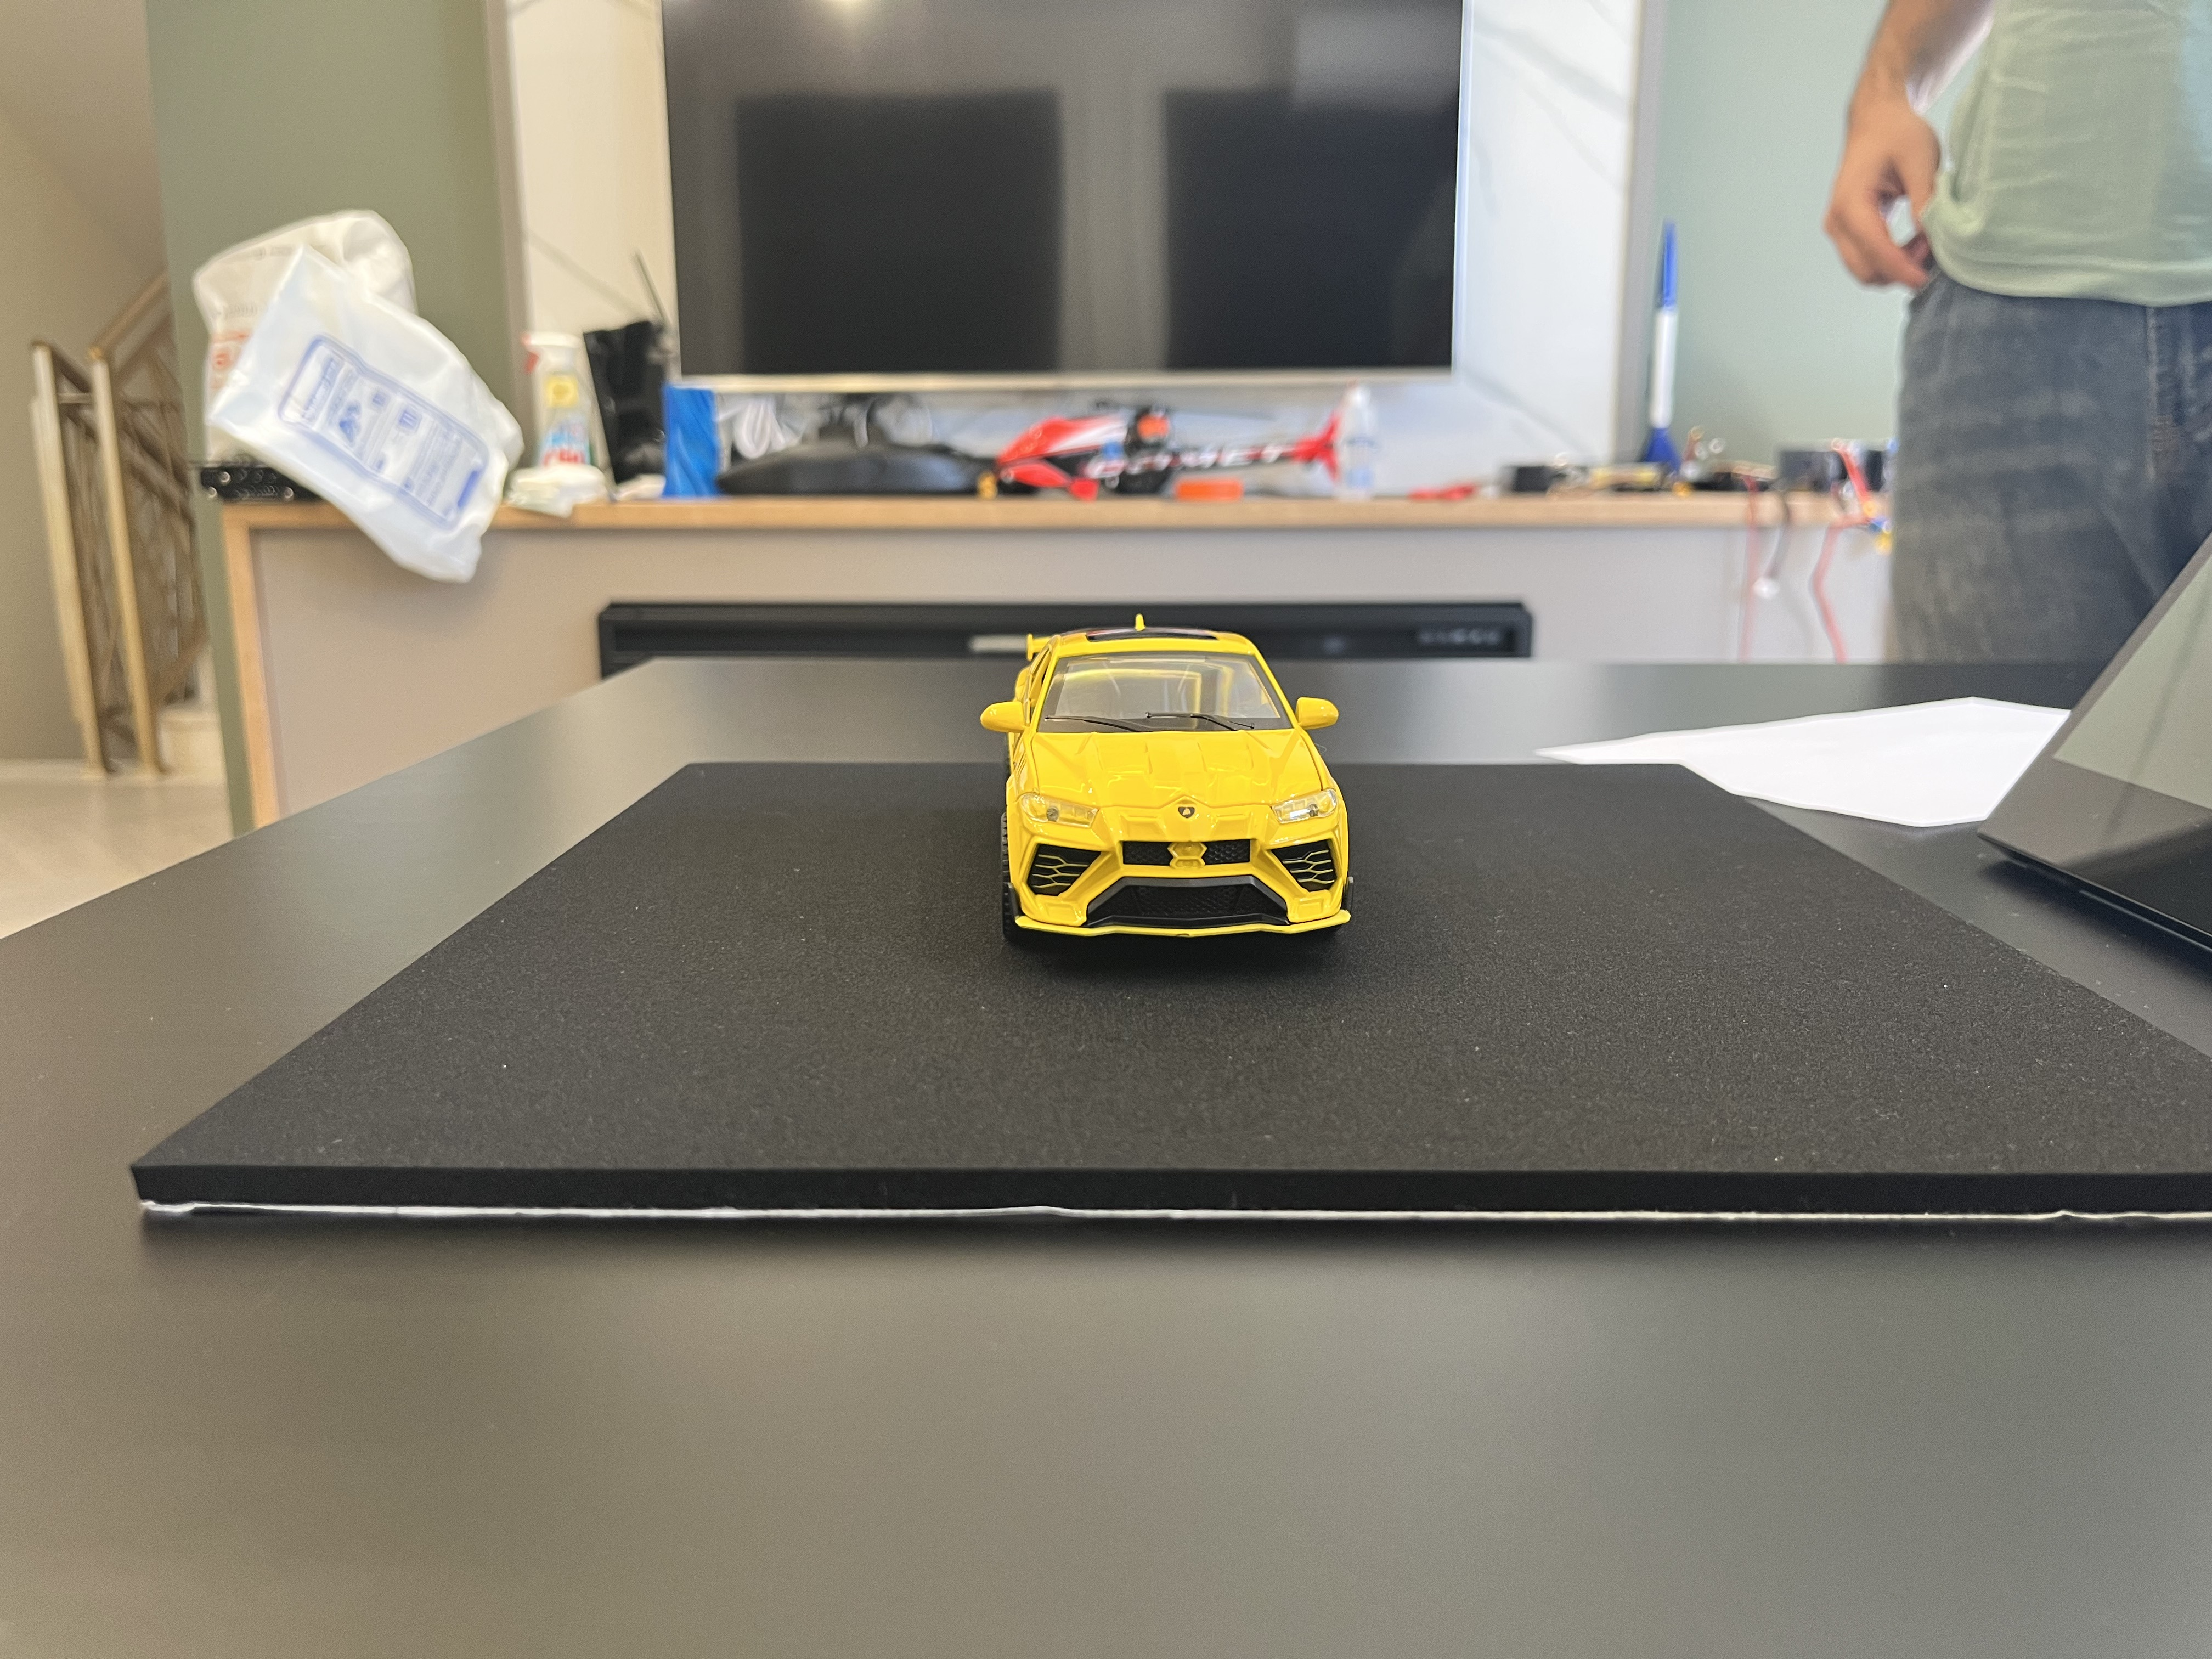lambo: (979, 617, 1357, 948)
